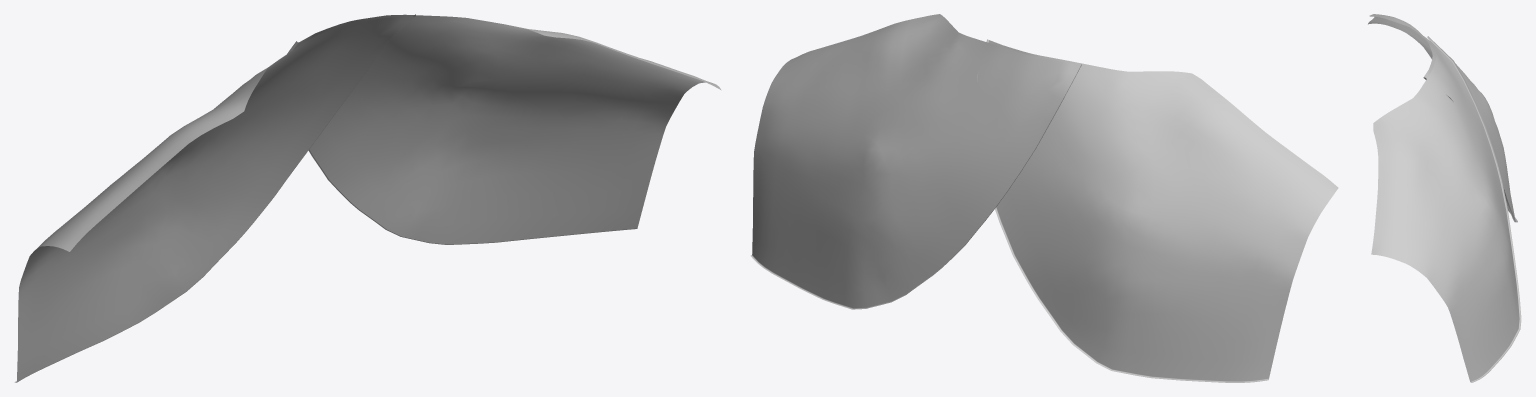
File: Butterfly_Lining.glb
3 views of the same model, side by side, from view 1: azimuth 30°, elevation 25°; view 2: azimuth 150°, elevation 25°; view 3: azimuth 270°, elevation 25° (orthographic). The views are drawn at different scales.
Visible parts, largest first — view 1: Butterfly_Lining; view 2: Butterfly_Lining; view 3: Butterfly_Lining.
Part boxes in pixels (bbox=[...]): Butterfly_Lining: bbox=[14, 14, 721, 382]; Butterfly_Lining: bbox=[750, 14, 1338, 382]; Butterfly_Lining: bbox=[1368, 14, 1521, 382].
Bounding box in the file's own units: 0.0589 × 0.0261 × 0.0165.
1 material, 1 textured.
